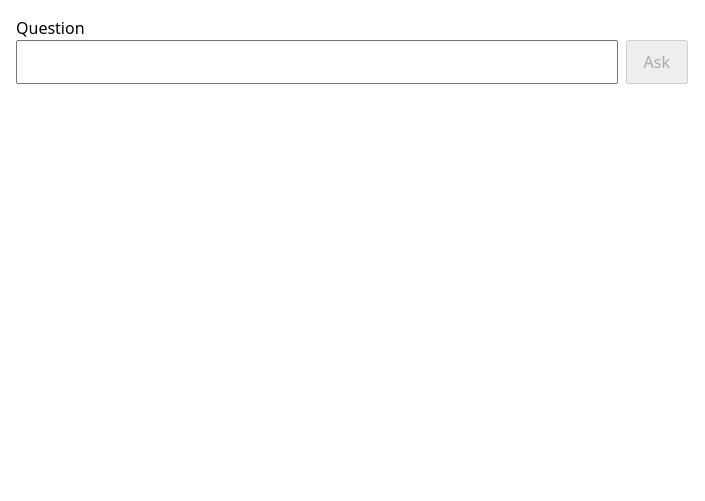
Test: AskForm › disables the button and shows Thinking… while loading
Expected: the text "Thinking…" is not shown
Step 1. Type "What is alpha?" into the field labelled "Question" → (317, 62), box [16, 40, 618, 84]
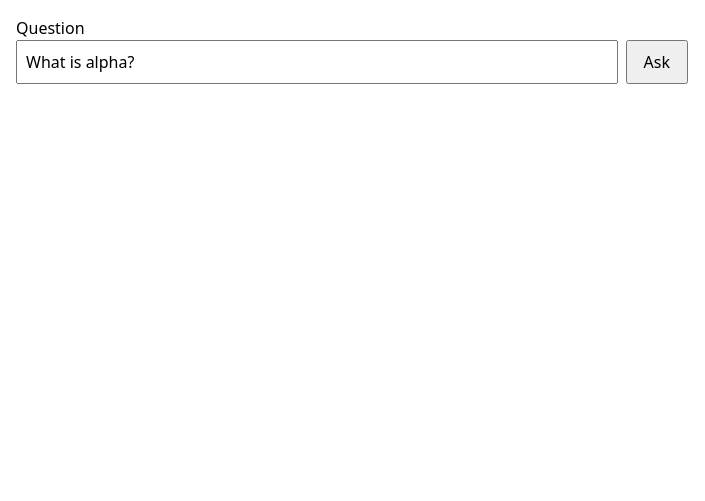
Step 2. Click the button "Ask" → (657, 62), box [626, 40, 688, 84]
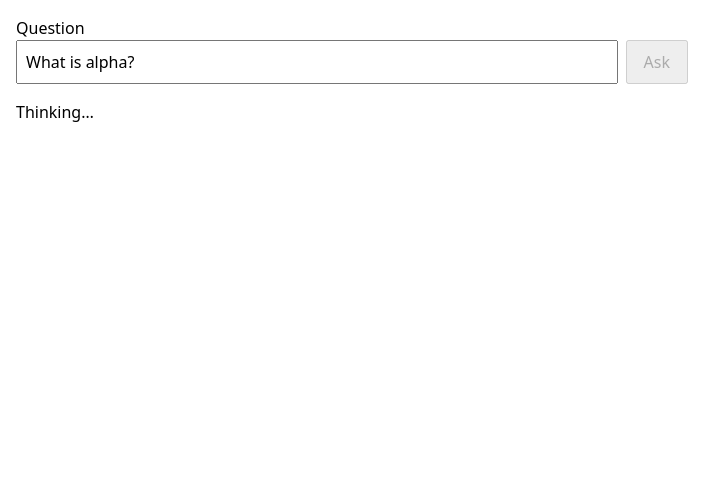
Expected: the button "Ask" is disabled, [626, 40, 688, 84]
Expected: the text "Thinking…" is shown, [16, 101, 94, 123]
Step 3. Submit the form labelled "Question", box [16, 16, 688, 84]
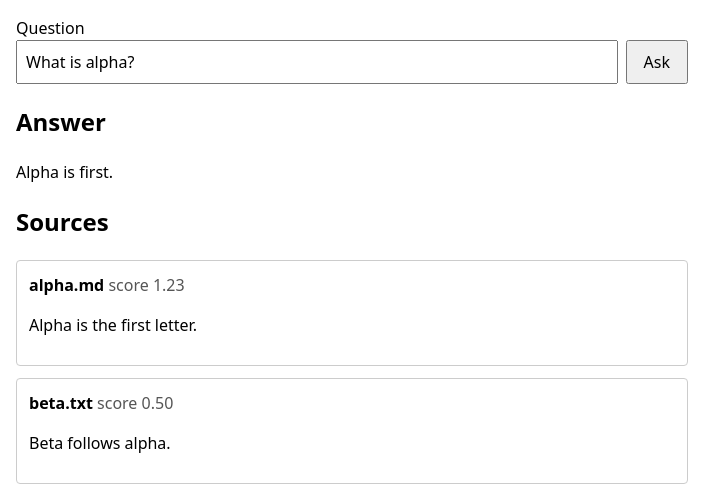
Expected: the text "Alpha is first." is shown, [16, 161, 113, 183]
Expected: the button "Ask" is enabled, [626, 40, 688, 84]
Expected: the text "Thinking…" is gone
